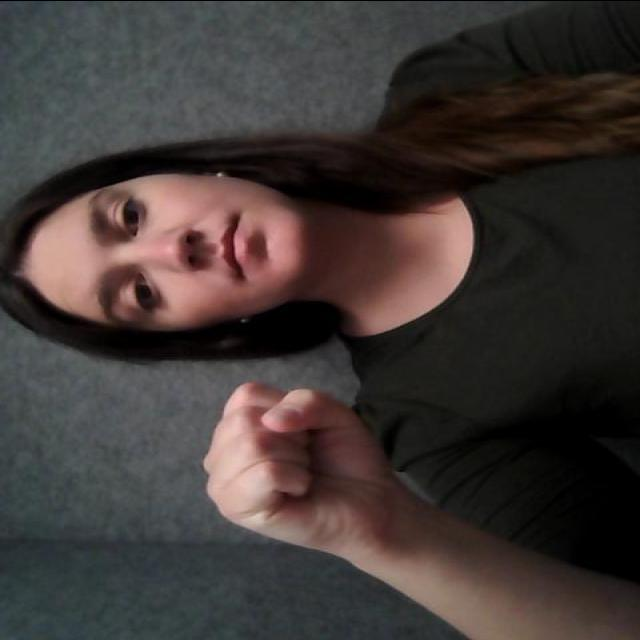Rock: (196, 368, 400, 554)
